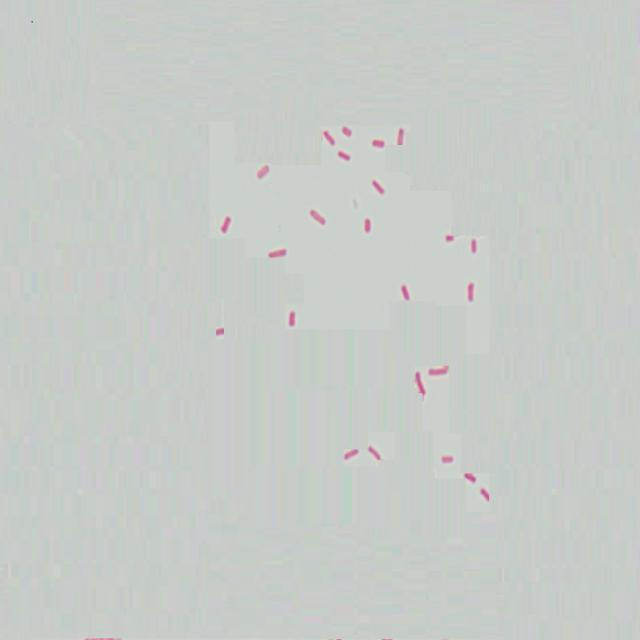E-coli: (306, 201, 329, 230), (410, 369, 426, 405), (396, 277, 415, 304), (282, 307, 300, 333), (251, 161, 272, 183), (267, 243, 291, 261), (370, 175, 389, 197), (478, 484, 497, 506), (426, 362, 450, 379), (464, 281, 479, 307), (218, 212, 232, 238), (335, 146, 354, 164), (342, 443, 359, 463), (371, 132, 387, 153), (214, 321, 229, 343), (367, 444, 382, 466), (396, 121, 407, 150), (358, 215, 373, 236), (339, 120, 354, 141), (320, 128, 335, 149), (460, 468, 480, 483), (438, 453, 456, 469), (467, 231, 479, 253), (443, 231, 457, 246)
